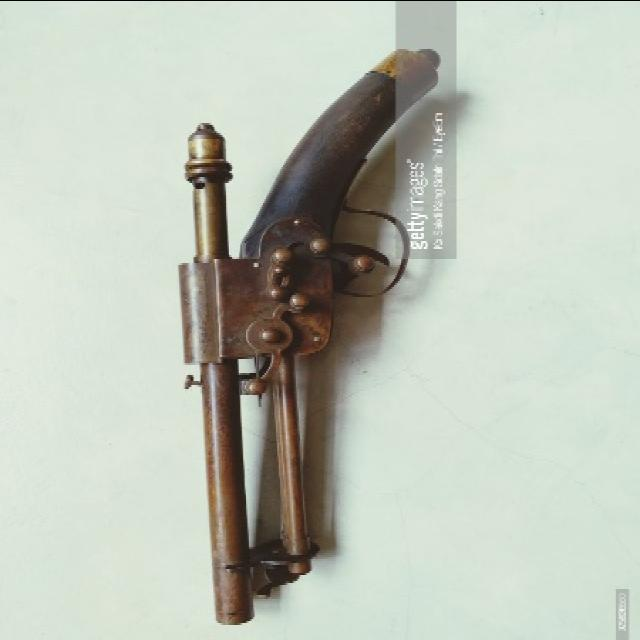handgun: (182, 47, 450, 623)
